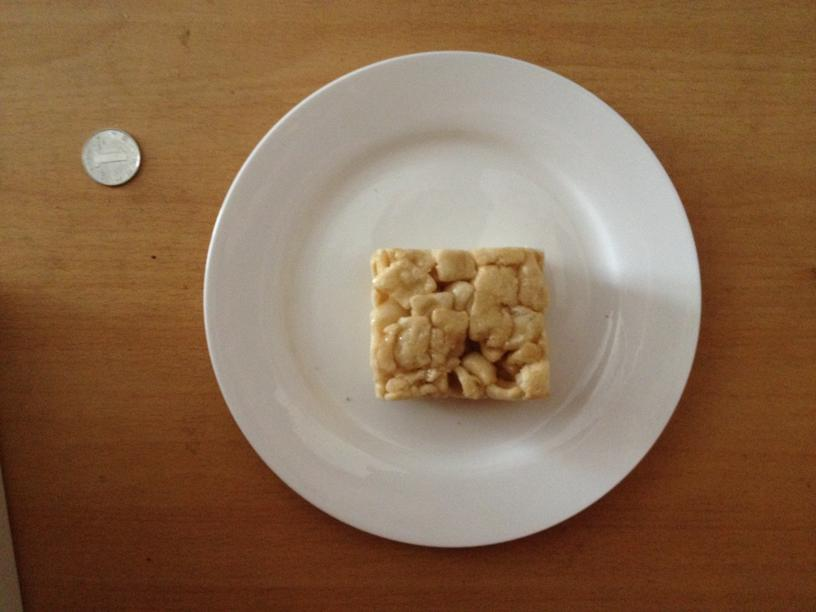coin: (82, 130, 142, 186)
sachima: (359, 244, 557, 403)
